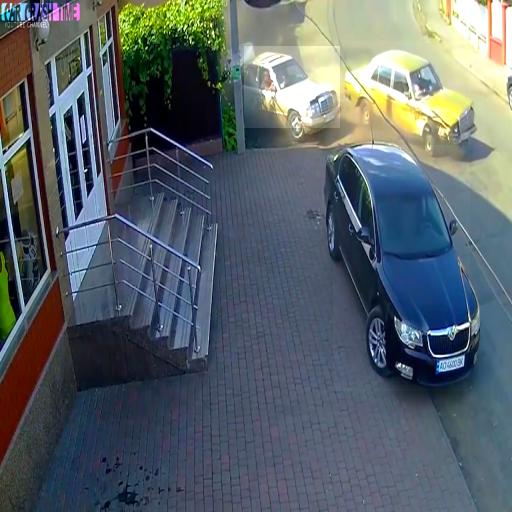小汽车: (333, 145, 470, 391), (346, 41, 485, 140), (244, 46, 340, 128)
